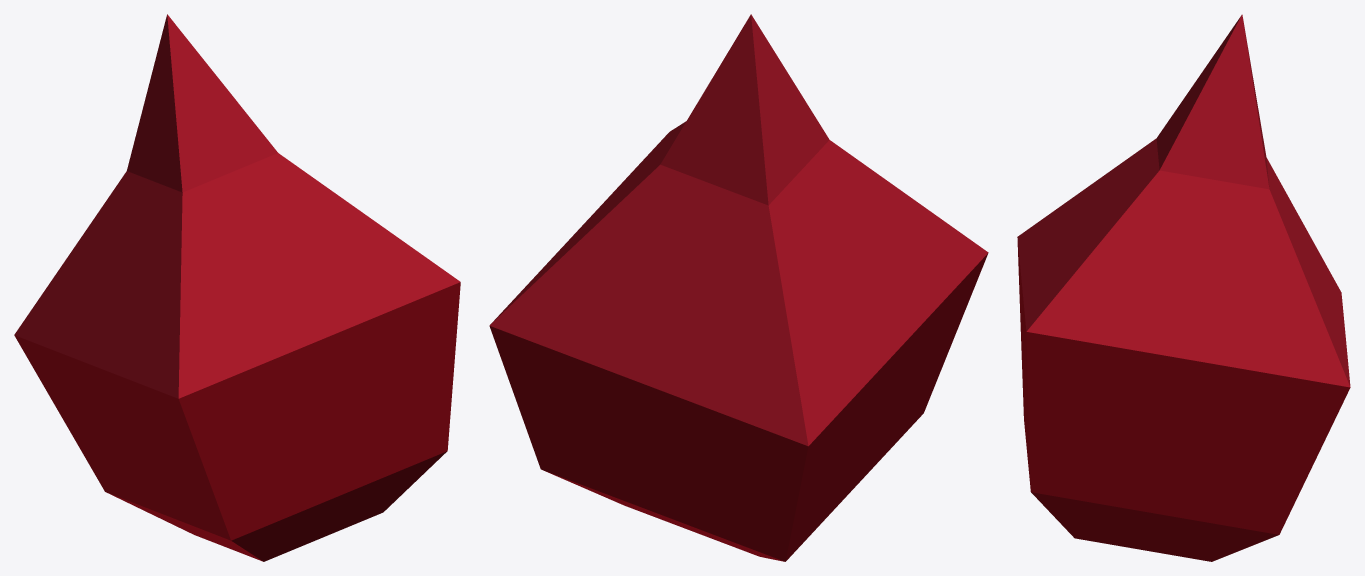
Rendered from taste_for_blood.glb.
3 views of the same model, side by side, from view 1: azimuth 30°, elevation 25°; view 2: azimuth 150°, elevation 25°; view 3: azimuth 270°, elevation 25° (orthographic). The views are drawn at different scales.
Parts seen in each view (by area): view 1: Cube; view 2: Cube; view 3: Cube.
Part boxes in pixels (box(x1,y1,x2,y2)): Cube: box(14, 14, 460, 561); Cube: box(489, 14, 988, 561); Cube: box(1017, 14, 1350, 561).
Size of the model in its own units: 1.52 by 2.59 by 1.55.
1 material, 1 textured.
